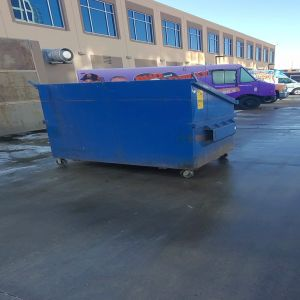Dumpster: (38, 84, 238, 181)
